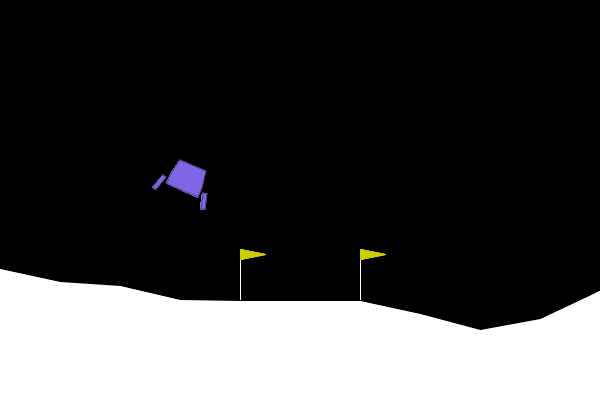lander: (150, 152, 221, 212)
